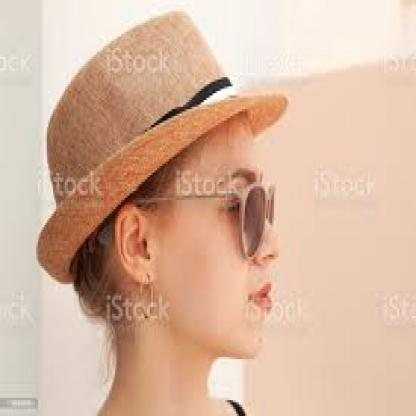hat: (35, 5, 292, 288)
